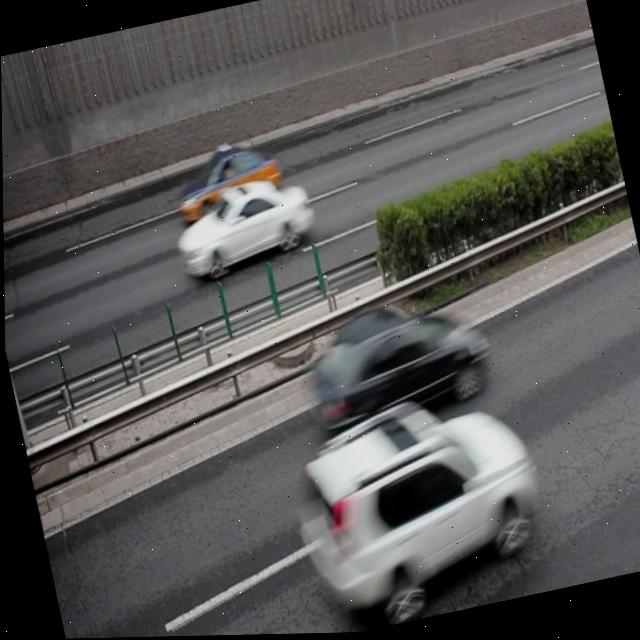car: (274, 378, 553, 635), (293, 285, 493, 437), (162, 169, 319, 286), (169, 140, 287, 226)
